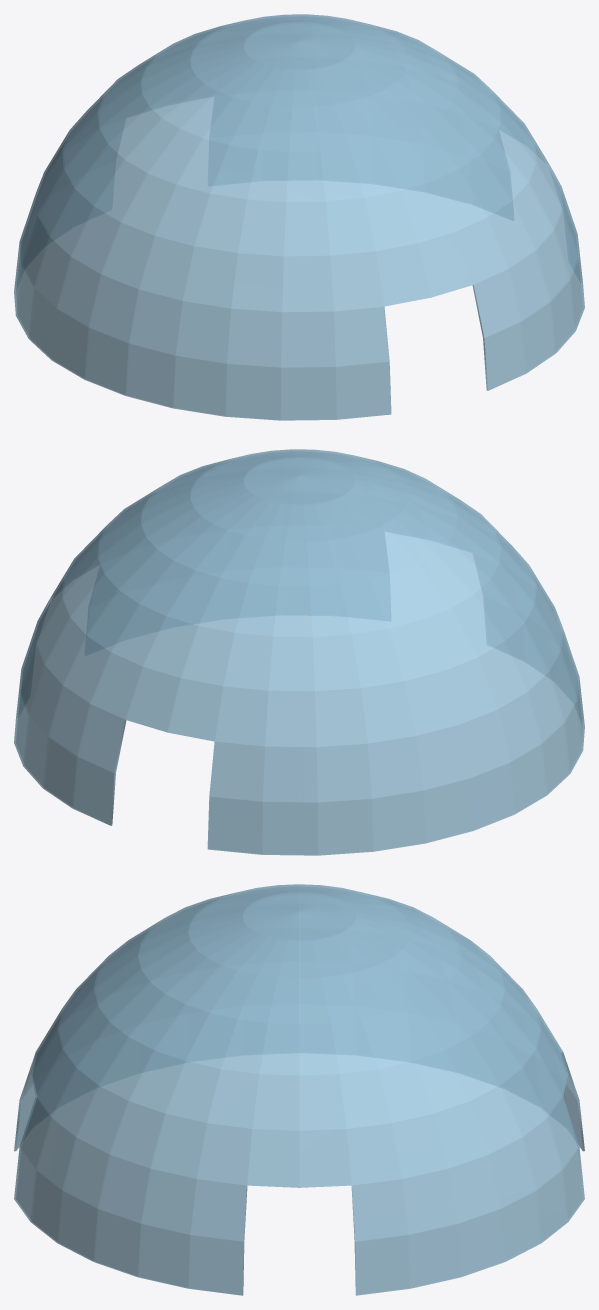
File: drame_dome02.fbx
3 views of the same model, one above another, from view 1: azimuth 30°, elevation 25°; view 2: azimuth 150°, elevation 25°; view 3: azimuth 270°, elevation 25° (orthographic).
Parts seen in each view (by area): view 1: Sphere.003_Sphere.004; view 2: Sphere.003_Sphere.004; view 3: Sphere.003_Sphere.004.
Boxes of the visible parts, bbox=[...] form: Sphere.003_Sphere.004: bbox=[14, 14, 584, 420]; Sphere.003_Sphere.004: bbox=[14, 449, 584, 855]; Sphere.003_Sphere.004: bbox=[14, 884, 584, 1295].
Bounding box in the file's own units: 1347 × 681 × 1334.
